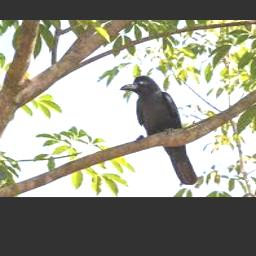Crow: (122, 75, 197, 185)
